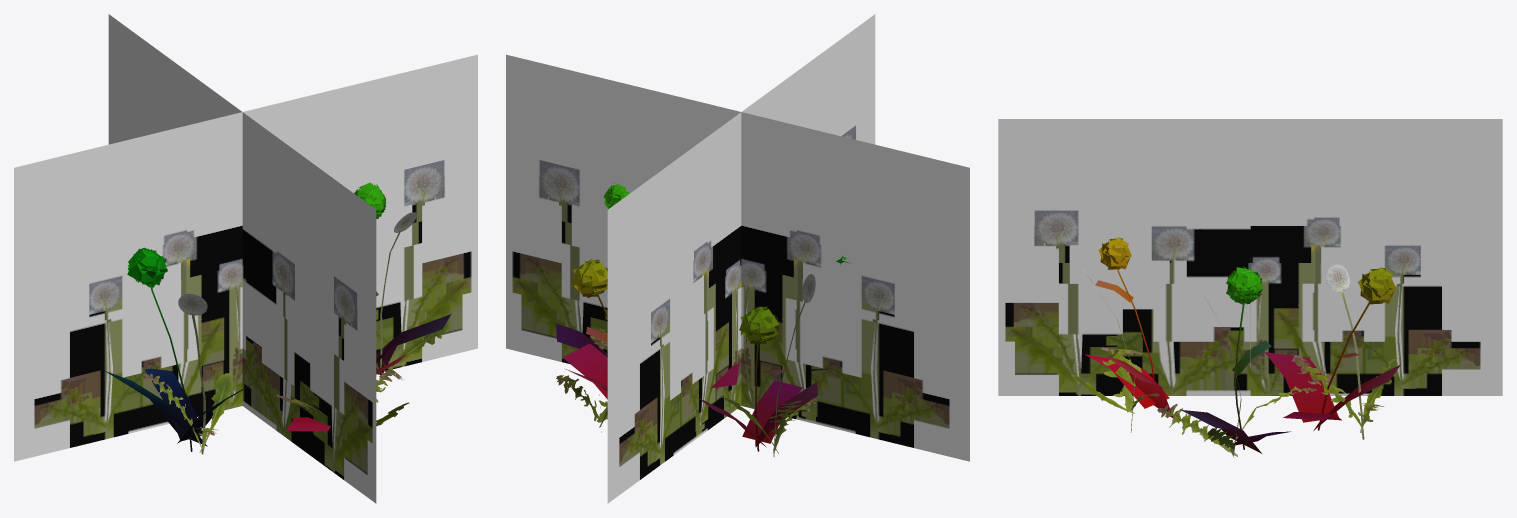
Rendered from MSH_Field_DandelionSeeds_A.FBX.
3 renders of one model, left to right at view 1: azimuth 30°, elevation 25°; view 2: azimuth 150°, elevation 25°; view 3: azimuth 270°, elevation 25°, orthographic. The views are drawn at different scales.
Visible parts, largest first — view 1: Field_DandelionSeeds_A_LOD2_GEO, Field_DandelionSeeds_A_LOD0_GEO, Field_DandelionSeeds_A_LOD1_GEO; view 2: Field_DandelionSeeds_A_LOD2_GEO, Field_DandelionSeeds_A_LOD0_GEO, Field_DandelionSeeds_A_LOD1_GEO; view 3: Field_DandelionSeeds_A_LOD2_GEO, Field_DandelionSeeds_A_LOD0_GEO, Field_DandelionSeeds_A_LOD1_GEO.
Part boxes in pixels (x1,y1,x2,y2): Field_DandelionSeeds_A_LOD2_GEO: (14,14,477,503); Field_DandelionSeeds_A_LOD0_GEO: (105,182,451,451); Field_DandelionSeeds_A_LOD1_GEO: (143,212,449,454); Field_DandelionSeeds_A_LOD2_GEO: (506,14,969,503); Field_DandelionSeeds_A_LOD0_GEO: (556,182,851,451); Field_DandelionSeeds_A_LOD1_GEO: (556,274,816,456); Field_DandelionSeeds_A_LOD2_GEO: (998,119,1502,395); Field_DandelionSeeds_A_LOD0_GEO: (1084,237,1400,453); Field_DandelionSeeds_A_LOD1_GEO: (1071,264,1397,457).
Bounding box in the file's own units: 125 × 81.55 × 125.
